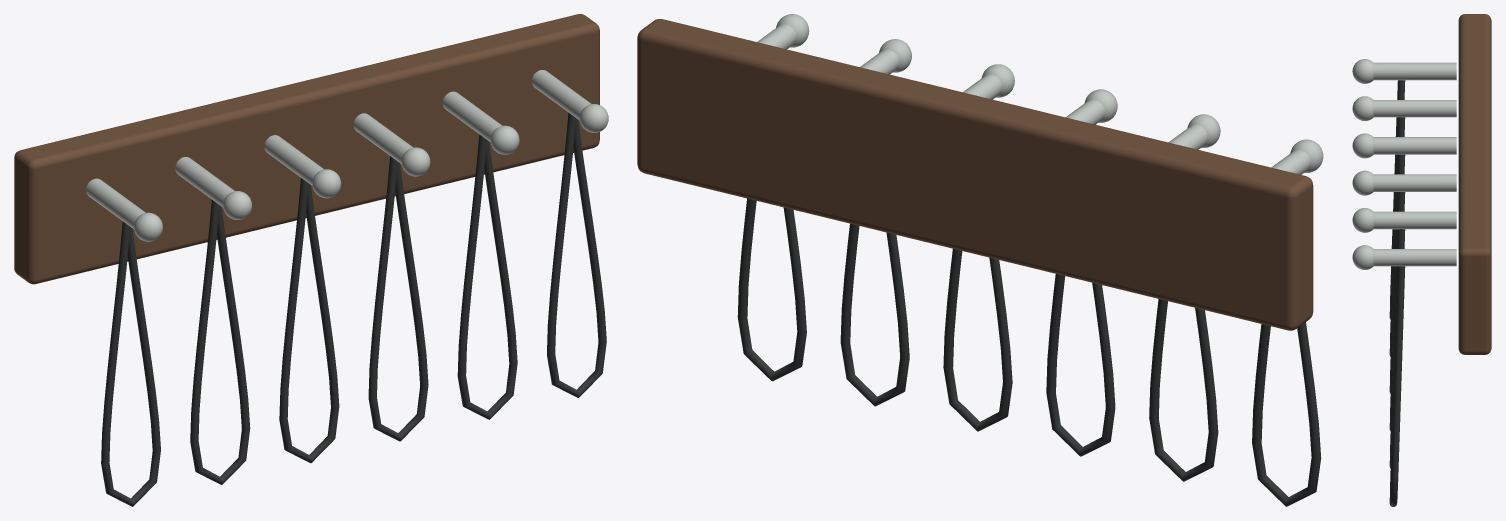
File: abandoned-telephone-exchange-patch-cord-storage-rail-007d03f4__31979.glb
The picture shows the model from 3 angles, left to right: view 1: azimuth 30°, elevation 25°; view 2: azimuth 150°, elevation 25°; view 3: azimuth 270°, elevation 25°; orthographic projection. The views are drawn at different scales.
Visible parts, largest first — view 1: patch-cord-storage-rail; view 2: patch-cord-storage-rail; view 3: patch-cord-storage-rail.
Part boxes in pixels (x1=…): patch-cord-storage-rail: x1=14, y1=14, x2=608, y2=506; patch-cord-storage-rail: x1=637, y1=14, x2=1323, y2=506; patch-cord-storage-rail: x1=1352, y1=14, x2=1491, y2=506.
Size of the model in its own units: 0.77 by 0.4248 by 0.1895.
